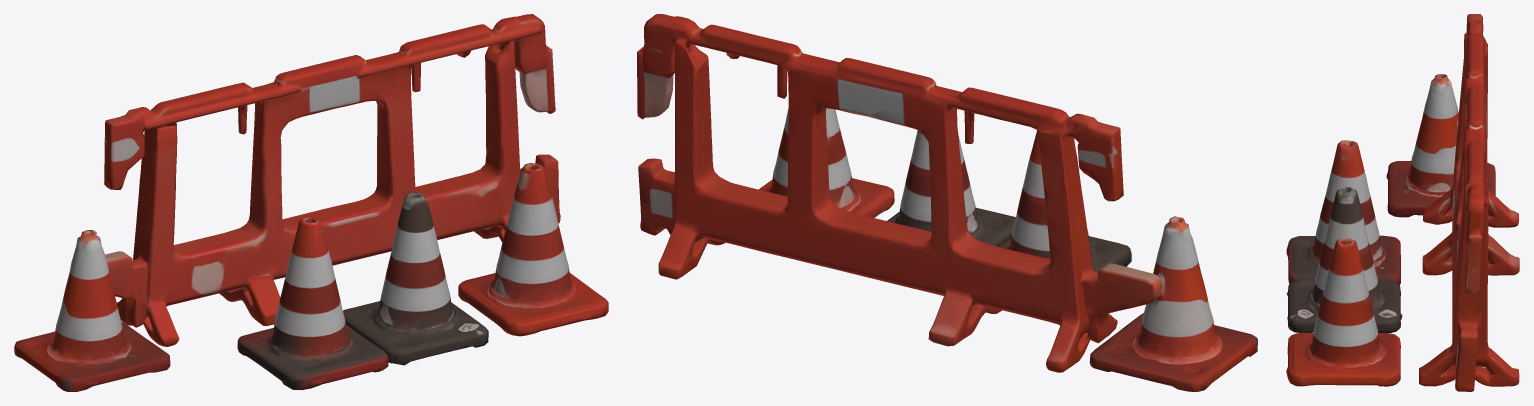
Rendered from barricade.glb.
3 renders of one model, left to right at view 1: azimuth 30°, elevation 25°; view 2: azimuth 150°, elevation 25°; view 3: azimuth 270°, elevation 25°, orthographic. The views are drawn at different scales.
Visible parts, largest first — view 1: tripo_node_92ccdd75-1b60-41c9-ba98-592e0ac487cb; view 2: tripo_node_92ccdd75-1b60-41c9-ba98-592e0ac487cb; view 3: tripo_node_92ccdd75-1b60-41c9-ba98-592e0ac487cb.
Part boxes in pixels (left/top/right/bottom): tripo_node_92ccdd75-1b60-41c9-ba98-592e0ac487cb: left=14, top=14, right=608, bottom=391; tripo_node_92ccdd75-1b60-41c9-ba98-592e0ac487cb: left=637, top=14, right=1257, bottom=391; tripo_node_92ccdd75-1b60-41c9-ba98-592e0ac487cb: left=1286, top=14, right=1519, bottom=391.
Size of the model in its own units: 4 by 1.59 by 1.68.
Materials: 1 (1 with a texture image).
